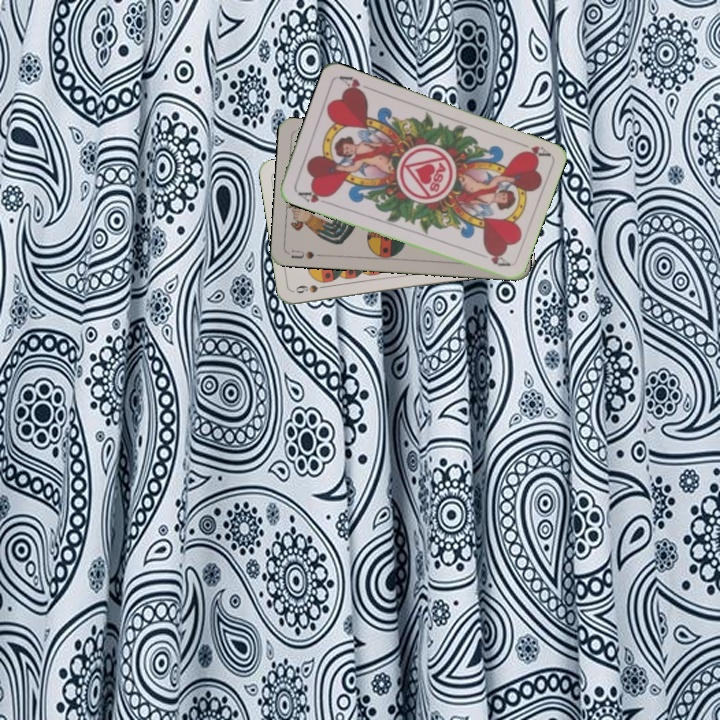HA: (512, 137, 552, 161), (294, 186, 332, 207)
S9: (292, 281, 332, 296)
SU: (285, 246, 326, 261)
